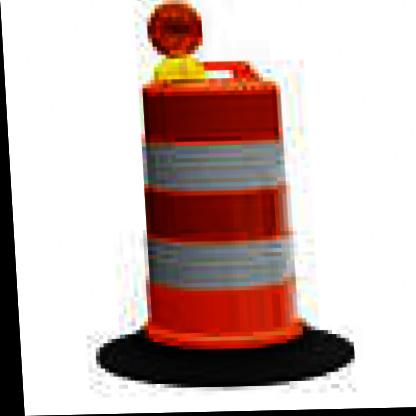obstacle: (112, 70, 325, 360)
